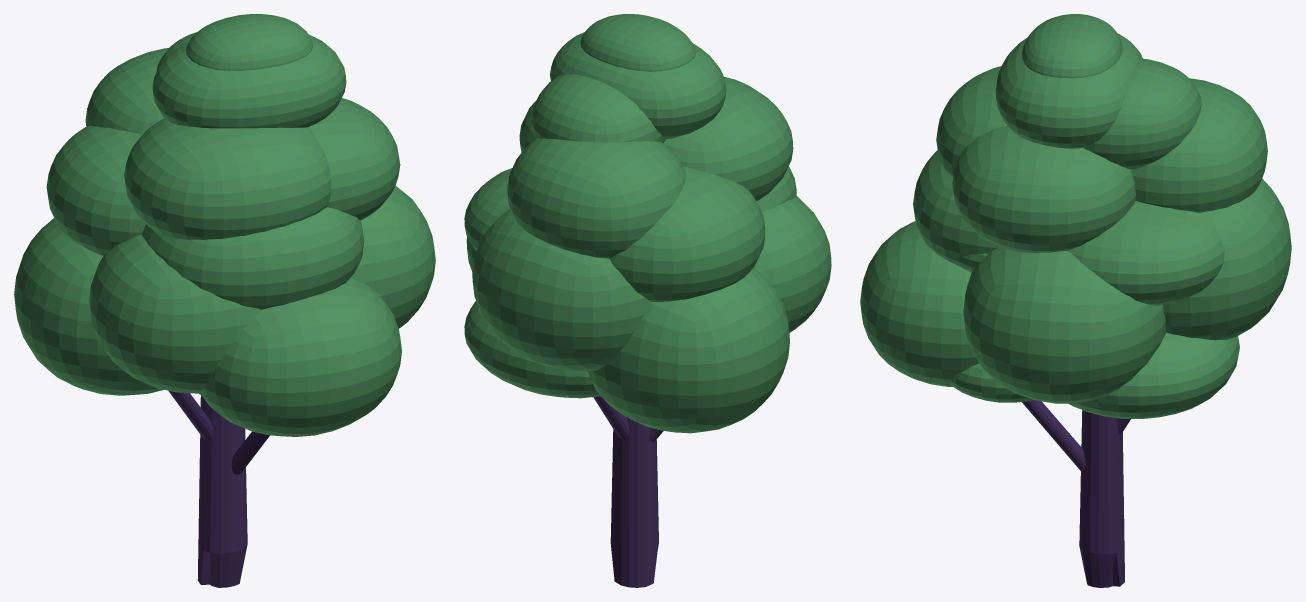
File: Tree7.fbx
The picture shows the model from 3 angles, left to right: view 1: azimuth 30°, elevation 25°; view 2: azimuth 150°, elevation 25°; view 3: azimuth 270°, elevation 25°; orthographic projection. The views are drawn at different scales.
Visible parts, largest first — view 1: Tree7; view 2: Tree7; view 3: Tree7.
Part boxes in pixels (x1,y1,x2,y2): Tree7: [14, 14, 435, 587]; Tree7: [464, 14, 831, 587]; Tree7: [860, 14, 1291, 587].
Bounding box in the file's own units: 12.43 × 19.25 × 13.38.
